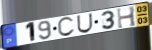1: (24, 21, 37, 43)
3: (100, 10, 117, 31)
9: (37, 20, 53, 41)
C: (57, 16, 76, 38)
H: (116, 5, 138, 30)
U: (76, 13, 94, 34)
